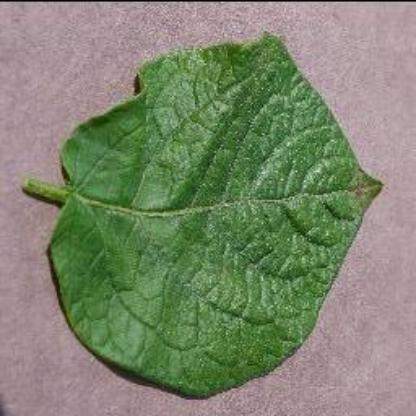Healthy-plant: (16, 32, 402, 402)
